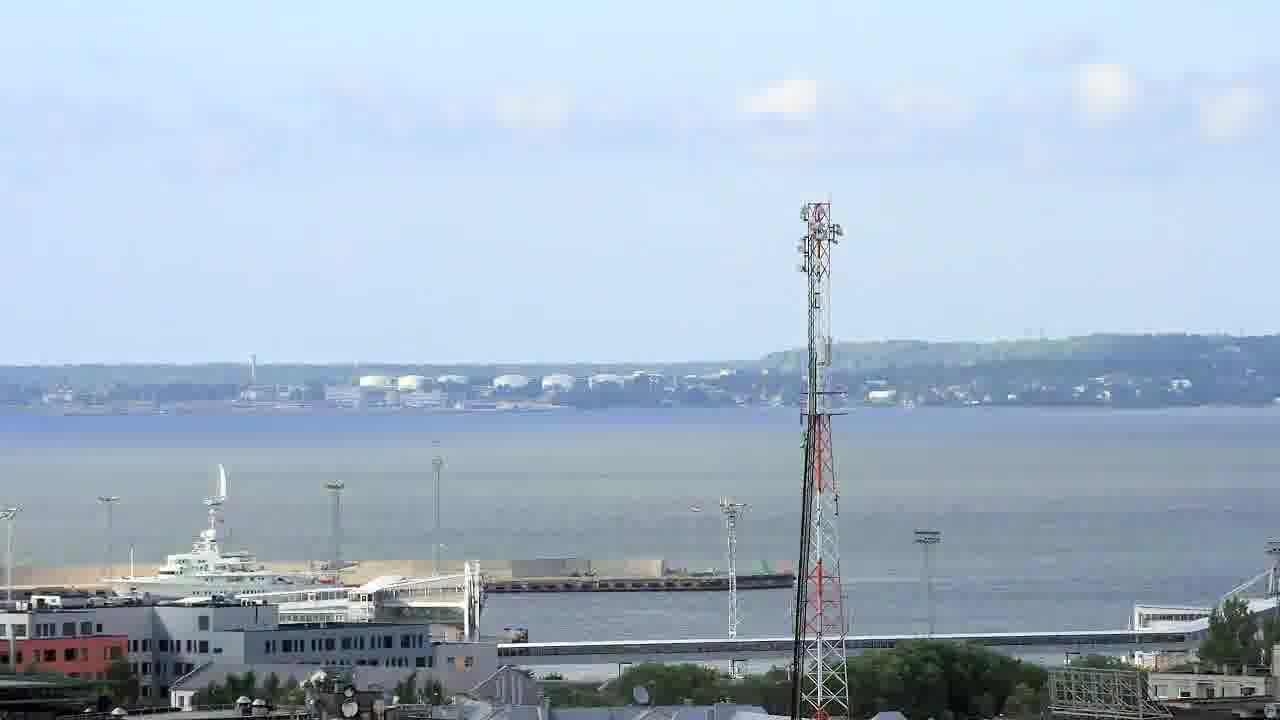type-2: (193, 449, 243, 522)
type-3: (84, 515, 355, 603)
